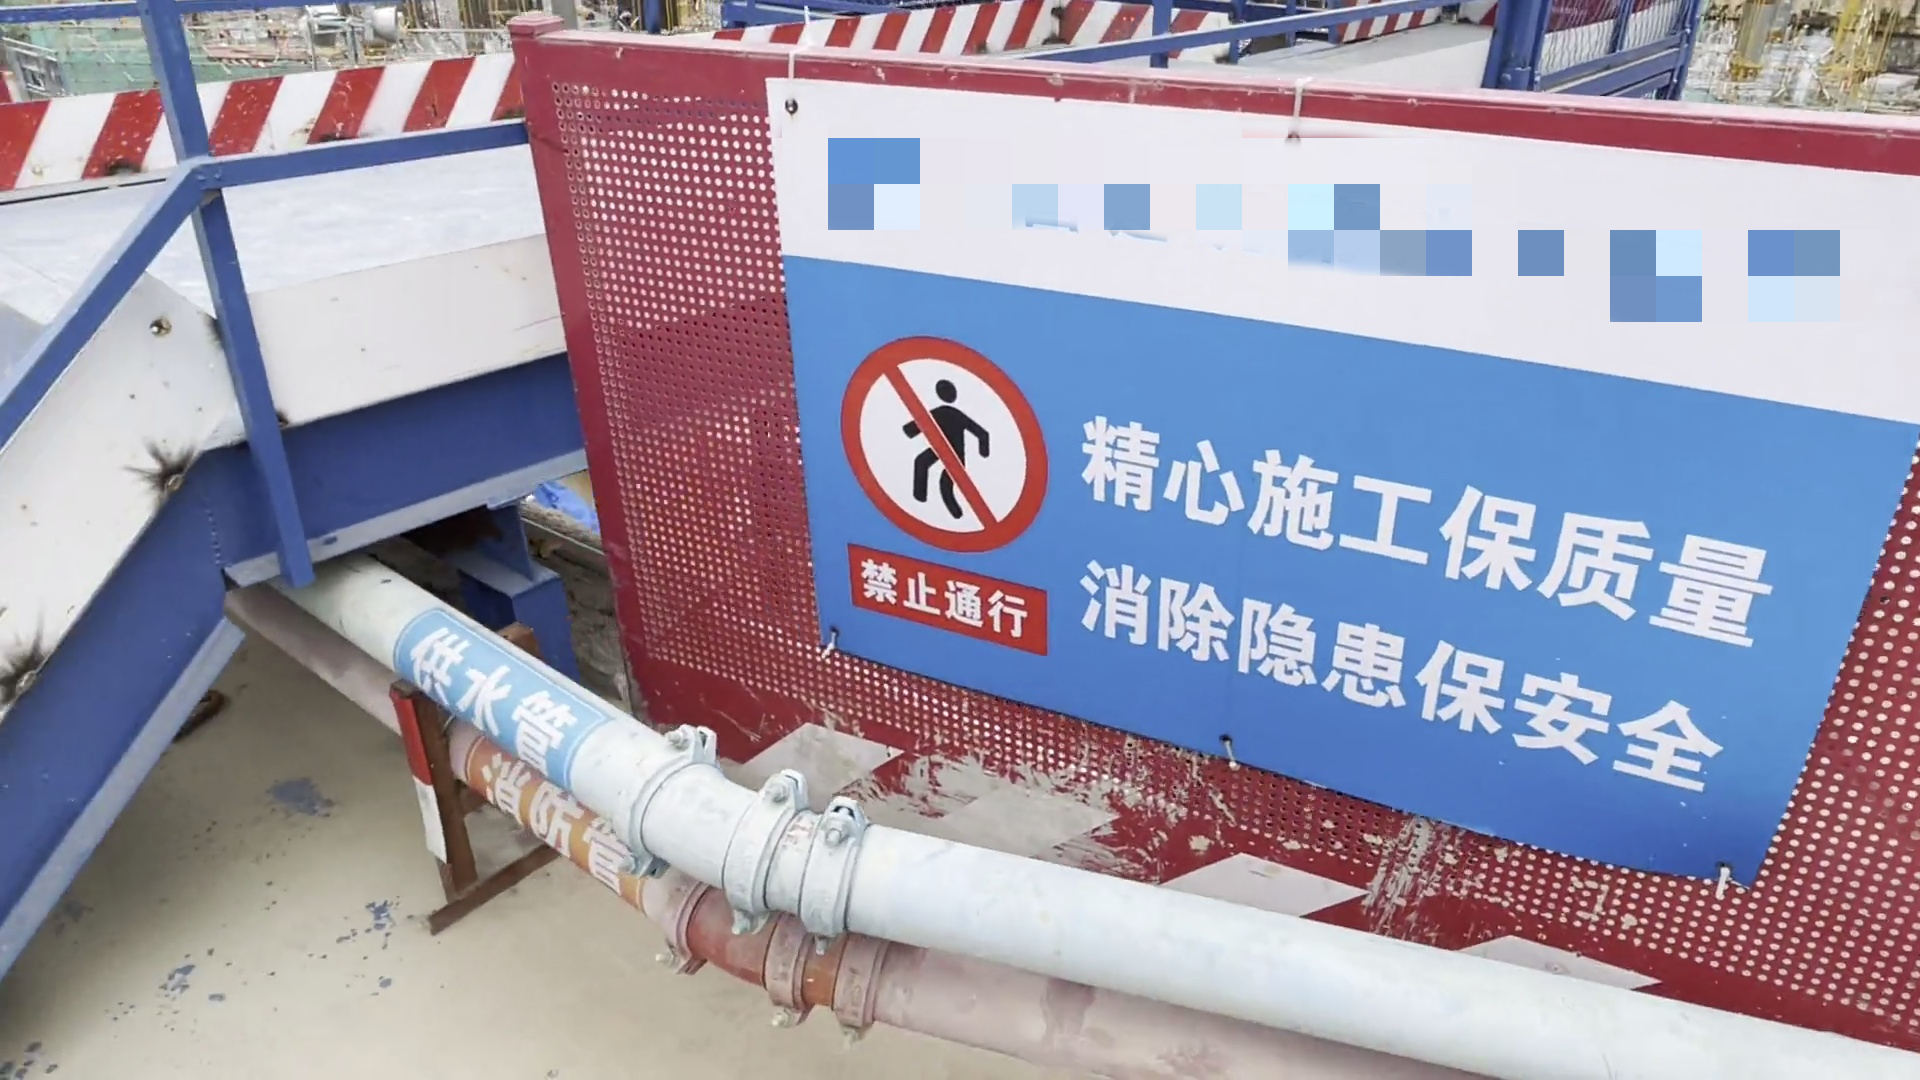slogan: (808, 307, 1797, 876)
